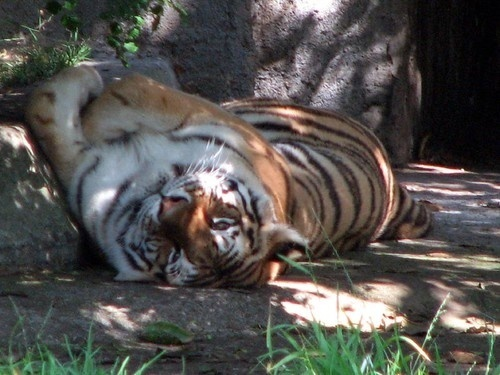tigre: (43, 58, 428, 287)
